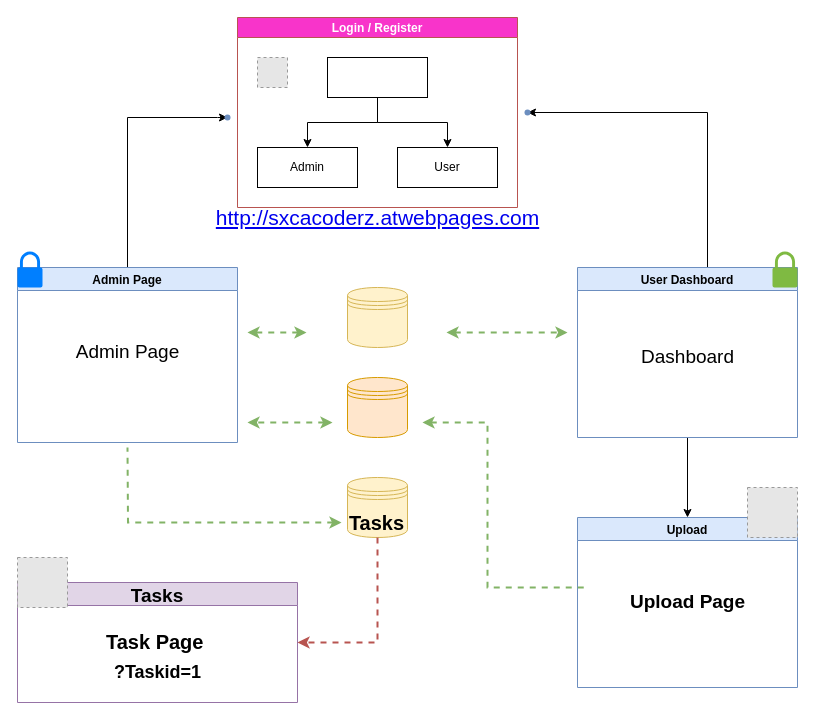
Image size: 815x720. Some labels were removed from this diagram. Grey dashed boxes stand in for pictures. The centre of each missing label's shape, as x and y in pixels:
"Root" belongs at [377,77].
"Uploads" belongs at [377,407].
"UserDatabase" belongs at [377,317].
